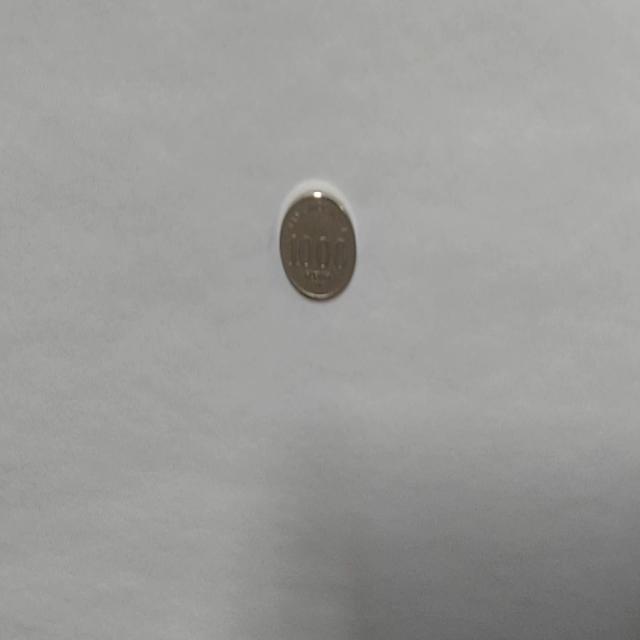seribu rupiah koin: (277, 182, 357, 302)
